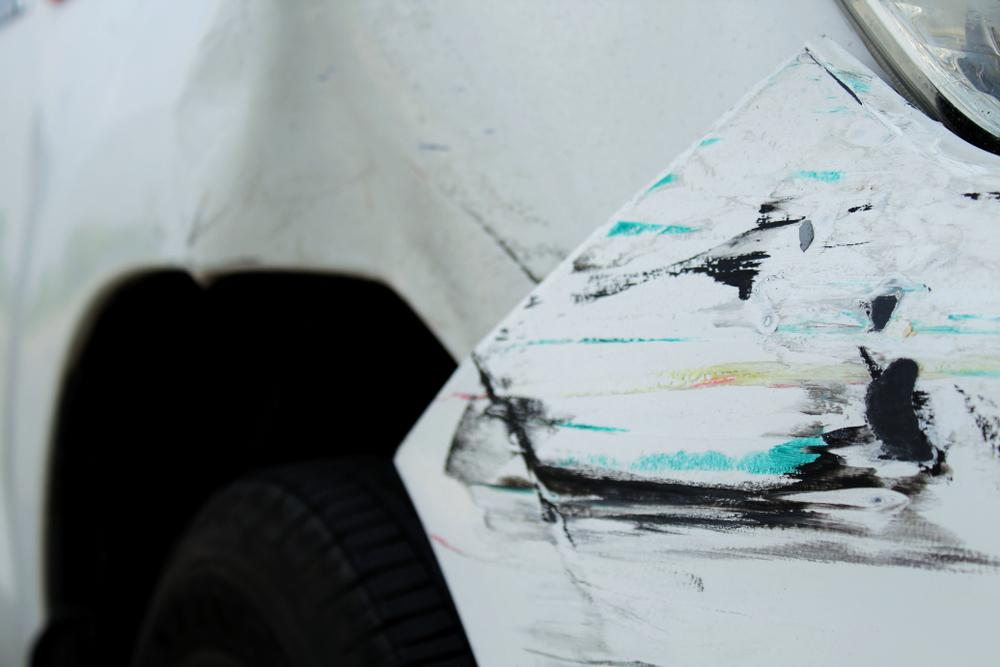dent: (167, 3, 511, 355)
scratch: (430, 45, 1000, 667)
